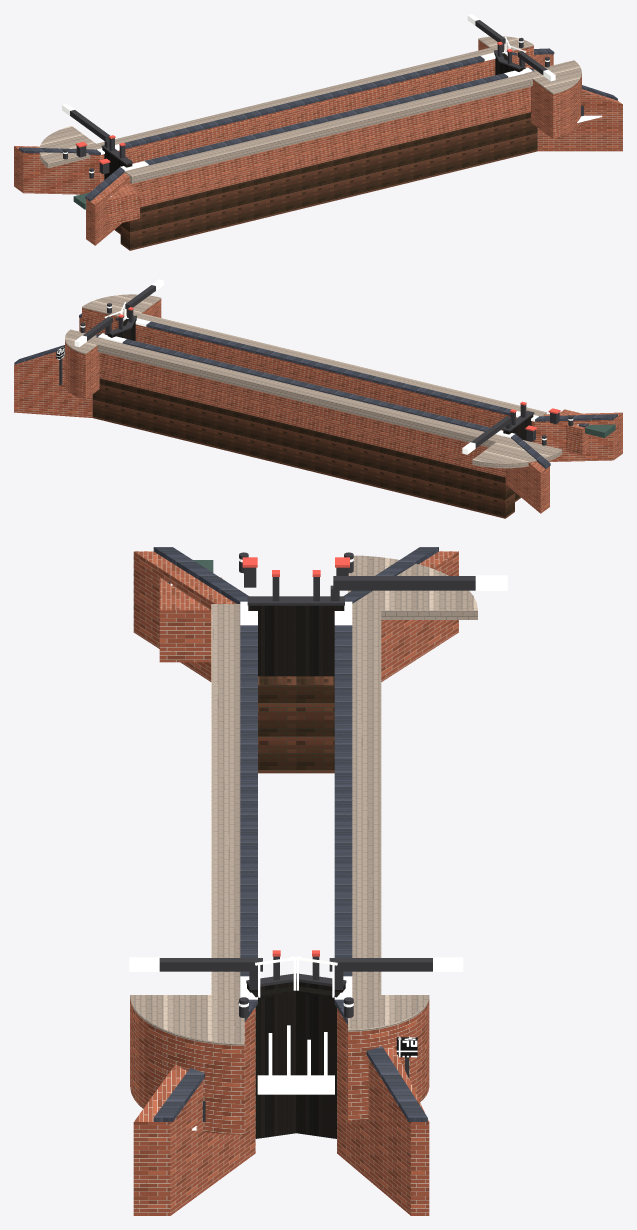
The model's file is lock-40.glb.
3 views of the same model, one above another, from view 1: azimuth 30°, elevation 25°; view 2: azimuth 150°, elevation 25°; view 3: azimuth 270°, elevation 25° (orthographic). The views are drawn at different scales.
Parts seen in each view (by area): view 1: Chamber, ChamberWet, Edge, Coping.001, TopGateCap, Coping, TopGate; view 2: Chamber, ChamberWet, Edge, Coping.001, TopGateCap, Coping, TopGate; view 3: Chamber, Edge, Coping.001, TopGate, TopGateCap, ChamberWet, Coping, Leak.
Boxes of the visible parts, x1,y1,x2,y2 form: Chamber: (14,40,622,245); ChamberWet: (114,112,537,250); Edge: (39,36,581,183); Coping.001: (19,48,617,201); TopGateCap: (63,20,583,178); Coping: (62,14,555,173); TopGate: (102,53,525,179); Chamber: (14,299,622,513); ChamberWet: (92,378,521,518); Edge: (65,294,562,468); Coping.001: (14,313,617,468); TopGateCap: (59,285,573,447); Coping: (74,279,573,454); TopGate: (105,318,533,441); Chamber: (130,551,458,1215); Edge: (130,555,477,1045); Coping.001: (153,547,438,1121); TopGate: (247,605,345,1138); TopGateCap: (159,552,475,1121); ChamberWet: (258,676,334,773); Coping: (129,558,507,1007); Leak: (170,583,334,1130).
Bounding box in the file's own units: 33.09 × 5.67 × 10.24.
Materials: 11 (8 with a texture image).
